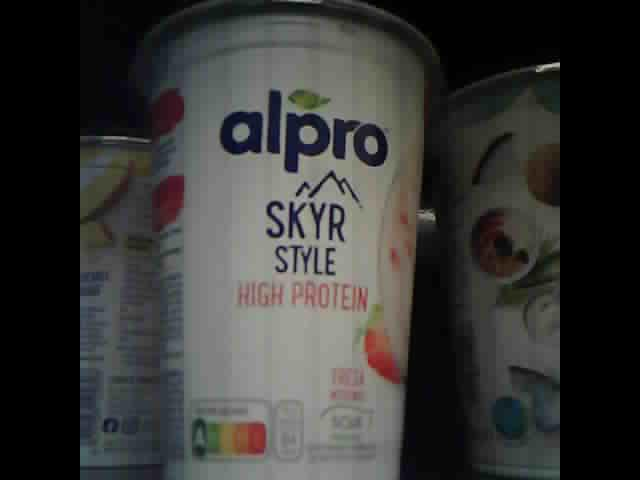alpro: (130, 2, 442, 480), (441, 59, 560, 476), (79, 125, 173, 475)
